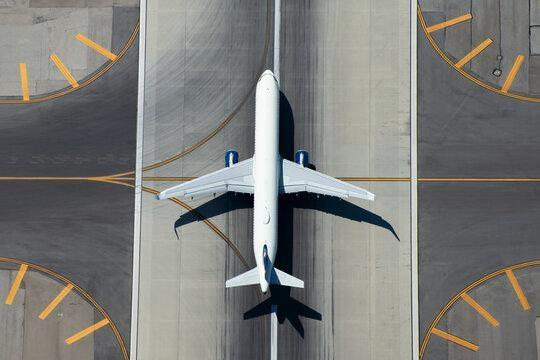Airplane: (151, 66, 383, 300)
